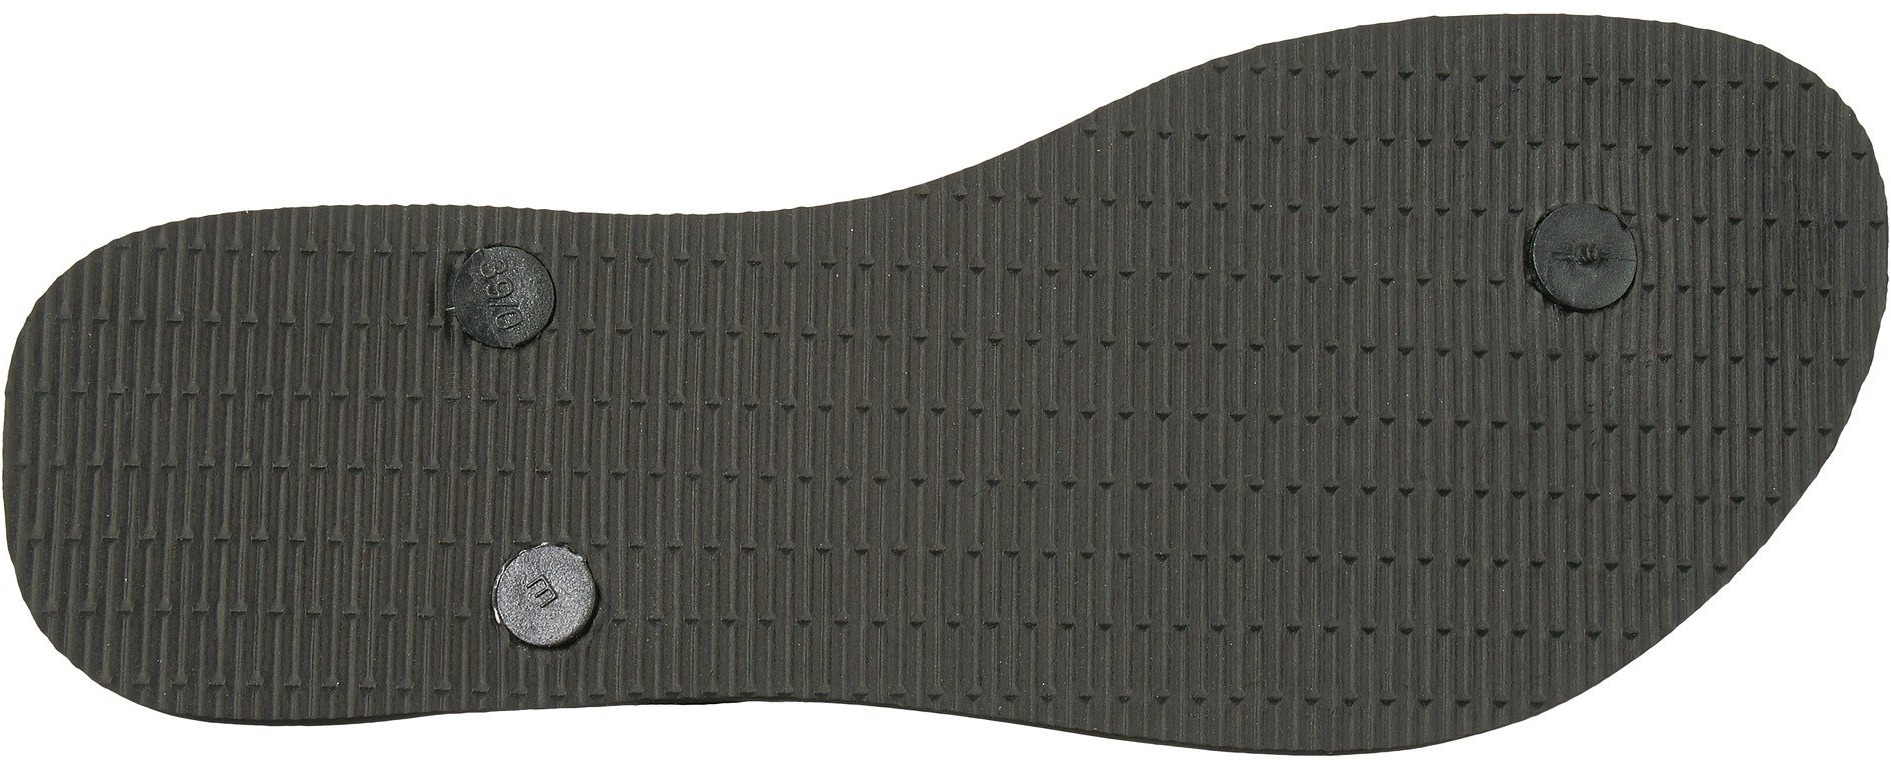circle: (1514, 192, 1649, 323), (441, 237, 568, 351), (484, 538, 605, 654)
line: (639, 215, 1153, 698), (54, 269, 439, 647), (1169, 336, 1557, 694), (1179, 74, 1444, 337), (1552, 340, 1757, 547), (1662, 111, 1864, 306), (1475, 30, 1632, 180), (1514, 192, 1649, 323), (441, 237, 568, 351), (484, 538, 605, 654)
text: (441, 237, 568, 351), (484, 538, 605, 654)
